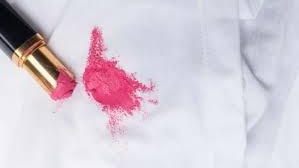lipstick: (75, 30, 157, 129)
